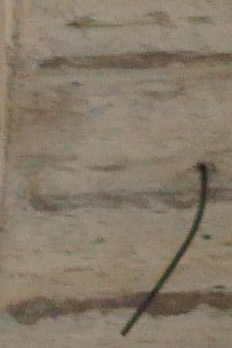Exposed reinforcement: (117, 162, 209, 338)
